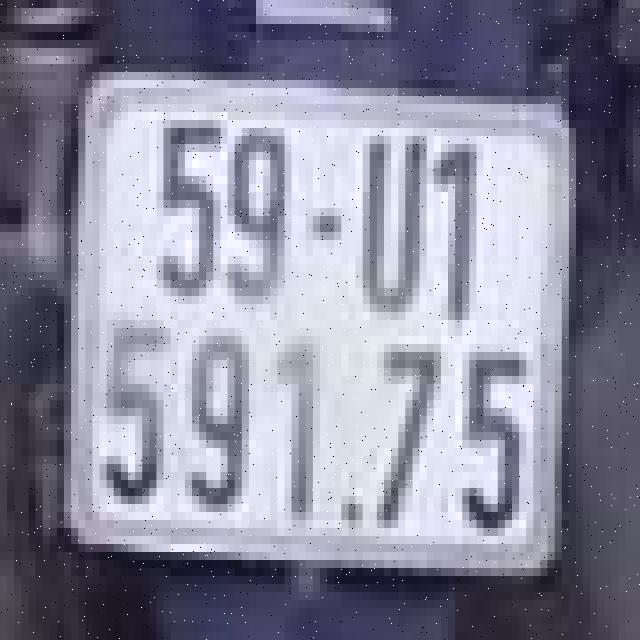1: (270, 324, 327, 524), (438, 132, 494, 324)
5: (96, 292, 181, 532), (146, 100, 224, 300), (462, 336, 526, 536)
8: (367, 332, 438, 540)
9: (224, 104, 295, 312), (188, 324, 252, 532)
U: (348, 112, 426, 320)
